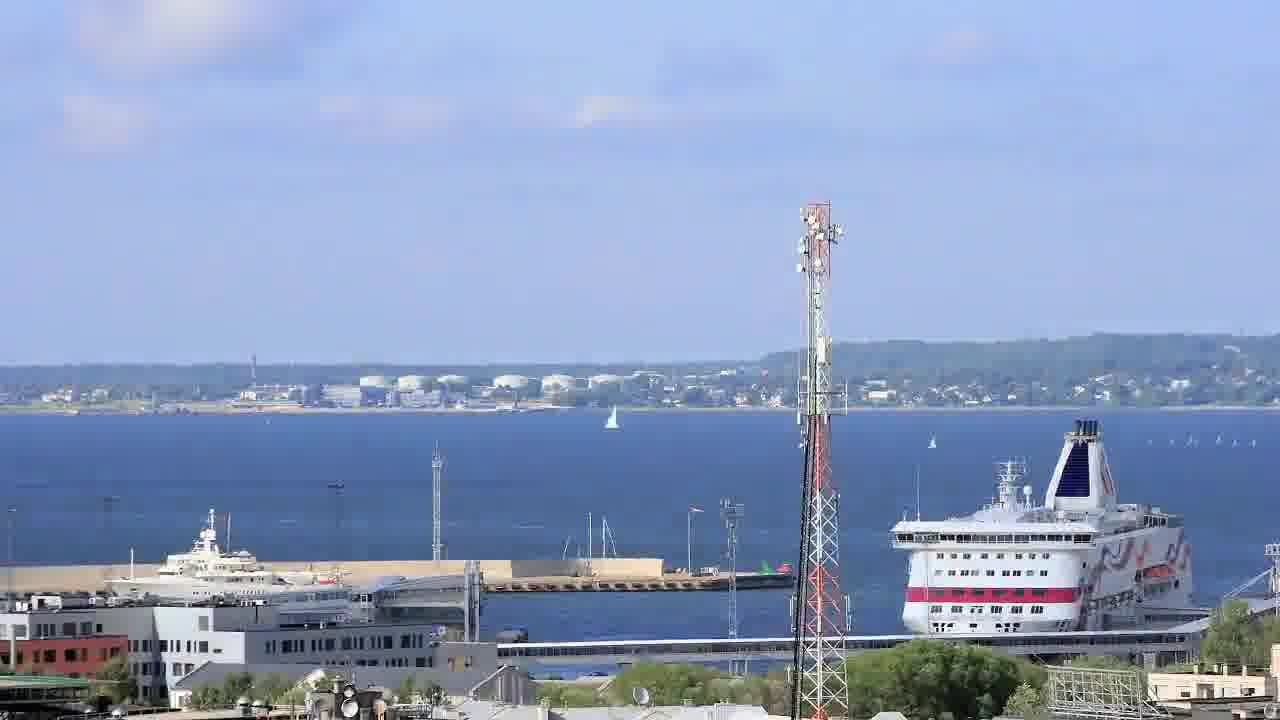type-2: (590, 391, 642, 445)
type-3: (868, 415, 1225, 638), (84, 511, 353, 609)
